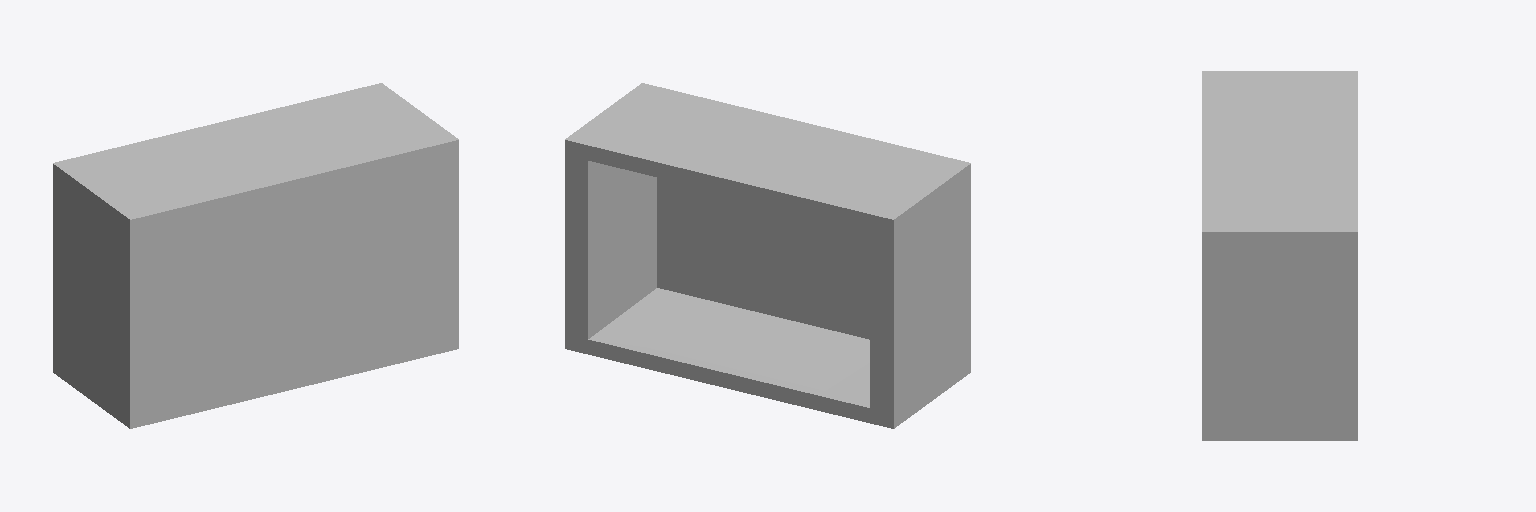
Rendered from cooking_inline.obj.
The picture shows the model from 3 angles: view 1: azimuth 30°, elevation 25°; view 2: azimuth 150°, elevation 25°; view 3: azimuth 270°, elevation 25°; orthographic projection.
Visible parts, largest first — view 1: Cube_Cube.002; view 2: Cube_Cube.002; view 3: Cube_Cube.002.
Part boxes in pixels (x1,y1,x2,y2): Cube_Cube.002: (53, 83, 458, 428); Cube_Cube.002: (565, 83, 970, 428); Cube_Cube.002: (1202, 71, 1357, 440).
Size of the model in its own units: 0.8078 by 0.4906 by 0.3305.